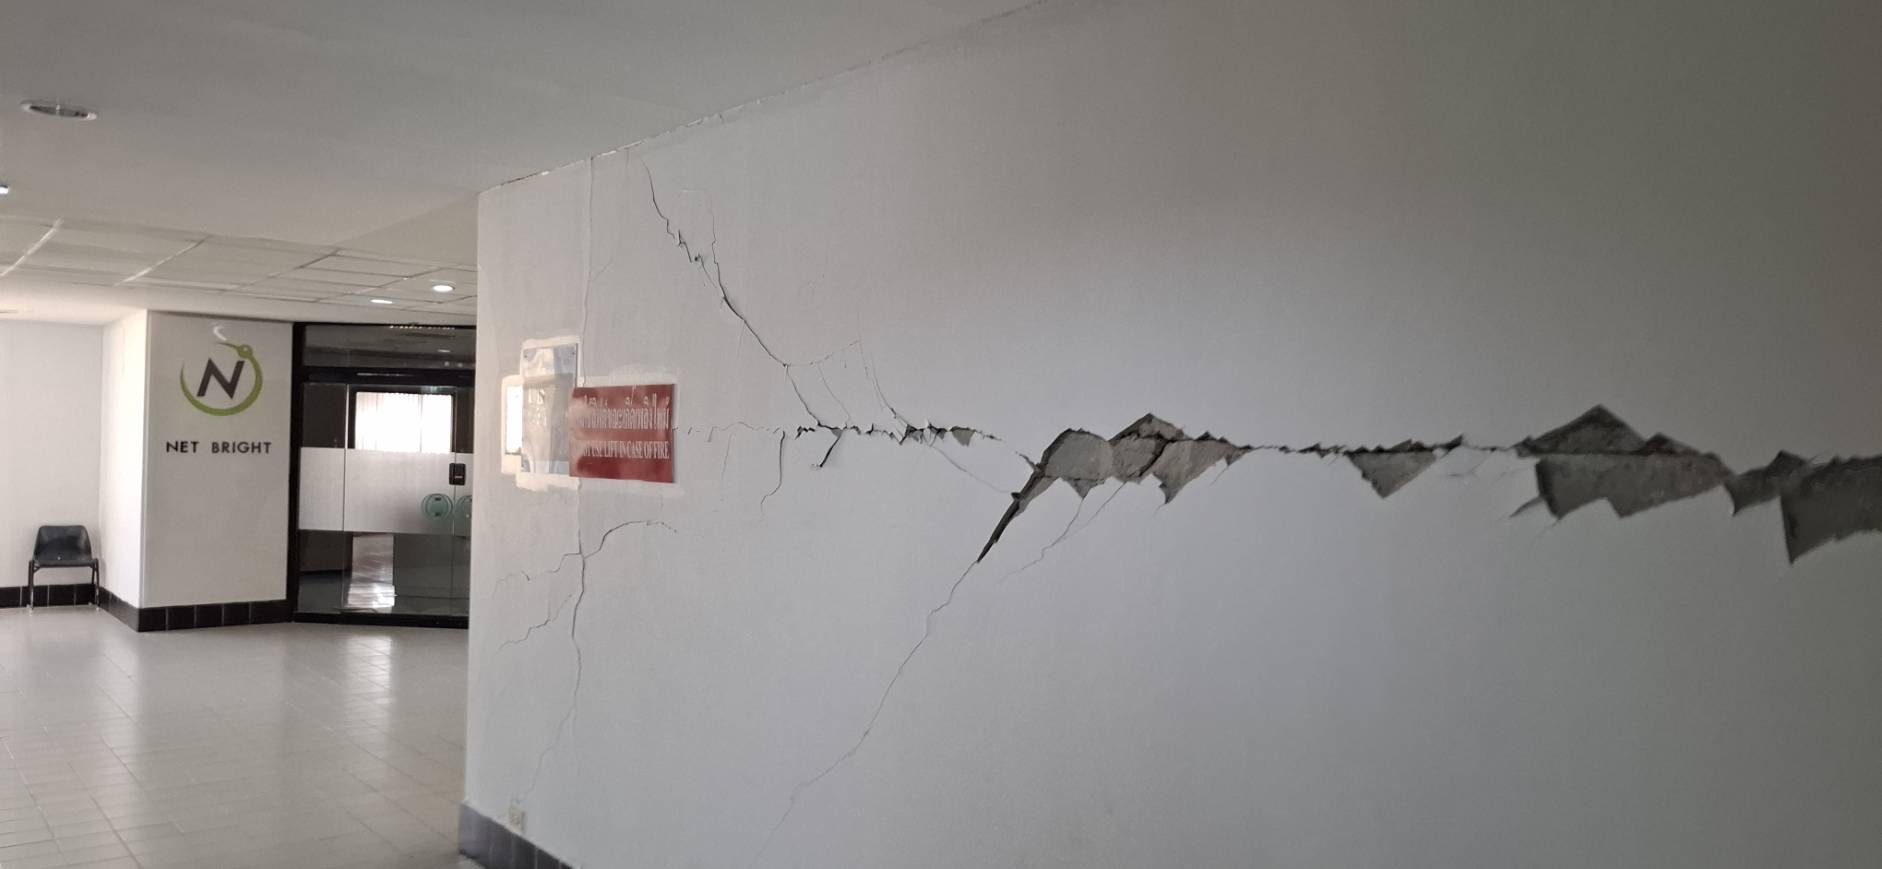Medium: (779, 383, 1851, 630)
